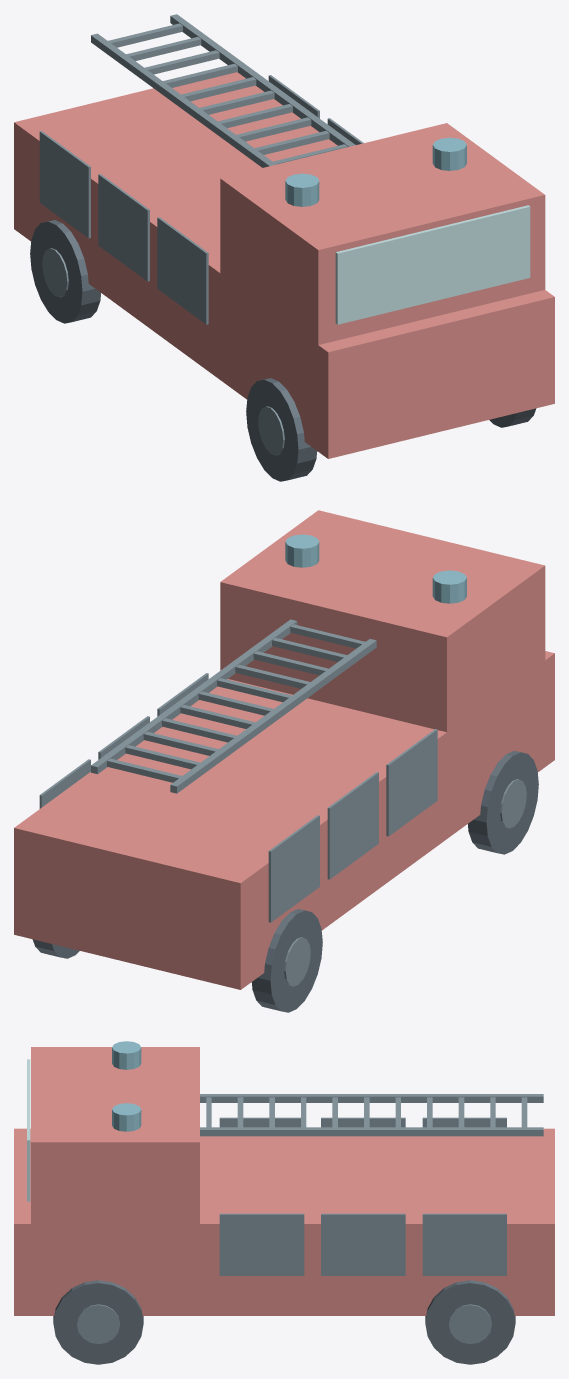
The model's file is fire_truck.glb.
3 views of the same model, one above another, from view 1: azimuth 30°, elevation 25°; view 2: azimuth 150°, elevation 25°; view 3: azimuth 270°, elevation 25° (orthographic). The views are drawn at different scales.
Visible parts, largest first — view 1: fire_truck_000, fire_truck_009, fire_truck_010, fire_truck_001, fire_truck_003, fire_truck_013, fire_truck_015, fire_truck_014, fire_truck_019, fire_truck_020, fire_truck_012, fire_truck_011 (+11 smaller); view 2: fire_truck_000, fire_truck_009, fire_truck_003, fire_truck_001, fire_truck_013, fire_truck_014, fire_truck_015, fire_truck_019, fire_truck_020, fire_truck_011, fire_truck_012, fire_truck_002 (+13 smaller); view 3: fire_truck_000, fire_truck_009, fire_truck_016, fire_truck_017, fire_truck_018, fire_truck_005, fire_truck_007, fire_truck_020, fire_truck_019, fire_truck_006, fire_truck_008, fire_truck_013 (+5 smaller).
Boxes of the visible parts, left/top/right/bottom form: fire_truck_000: left=14, top=72, right=554, bottom=458; fire_truck_009: left=220, top=123, right=545, bottom=367; fire_truck_010: left=335, top=205, right=530, bottom=324; fire_truck_001: left=246, top=378, right=317, bottom=481; fire_truck_003: left=30, top=220, right=100, bottom=323; fire_truck_013: left=157, top=217, right=208, bottom=324; fire_truck_015: left=39, top=131, right=90, bottom=238; fire_truck_014: left=98, top=174, right=149, bottom=281; fire_truck_019: left=91, top=33, right=276, bottom=167; fire_truck_020: left=170, top=14, right=355, bottom=146; fire_truck_012: left=432, top=137, right=466, bottom=170; fire_truck_011: left=285, top=173, right=319, bottom=206; fire_truck_000: left=14, top=651, right=554, bottom=989; fire_truck_009: left=220, top=510, right=545, bottom=735; fire_truck_003: left=251, top=909, right=322, bottom=1012; fire_truck_001: left=468, top=751, right=538, bottom=854; fire_truck_013: left=386, top=729, right=437, bottom=836; fire_truck_014: left=327, top=772, right=378, bottom=879; fire_truck_015: left=268, top=815, right=319, bottom=922; fire_truck_019: left=170, top=639, right=376, bottom=793; fire_truck_020: left=91, top=619, right=297, bottom=774; fire_truck_011: left=432, top=570, right=466, bottom=603; fire_truck_012: left=285, top=534, right=319, bottom=567; fire_truck_002: left=500, top=779, right=526, bottom=828; fire_truck_000: left=14, top=1128, right=554, bottom=1315; fire_truck_009: left=31, top=1047, right=199, bottom=1244; fire_truck_016: left=219, top=1213, right=304, bottom=1275; fire_truck_017: left=321, top=1213, right=405, bottom=1275; fire_truck_018: left=422, top=1213, right=506, bottom=1275; fire_truck_005: left=53, top=1280, right=143, bottom=1364; fire_truck_007: left=425, top=1280, right=515, bottom=1364; fire_truck_020: left=200, top=1127, right=543, bottom=1136; fire_truck_019: left=200, top=1094, right=543, bottom=1102; fire_truck_006: left=77, top=1304, right=120, bottom=1344; fire_truck_008: left=448, top=1304, right=491, bottom=1344; fire_truck_013: left=219, top=1117, right=300, bottom=1127.
Size of the model in its own units: 2.15 by 2.31 by 4.8.
